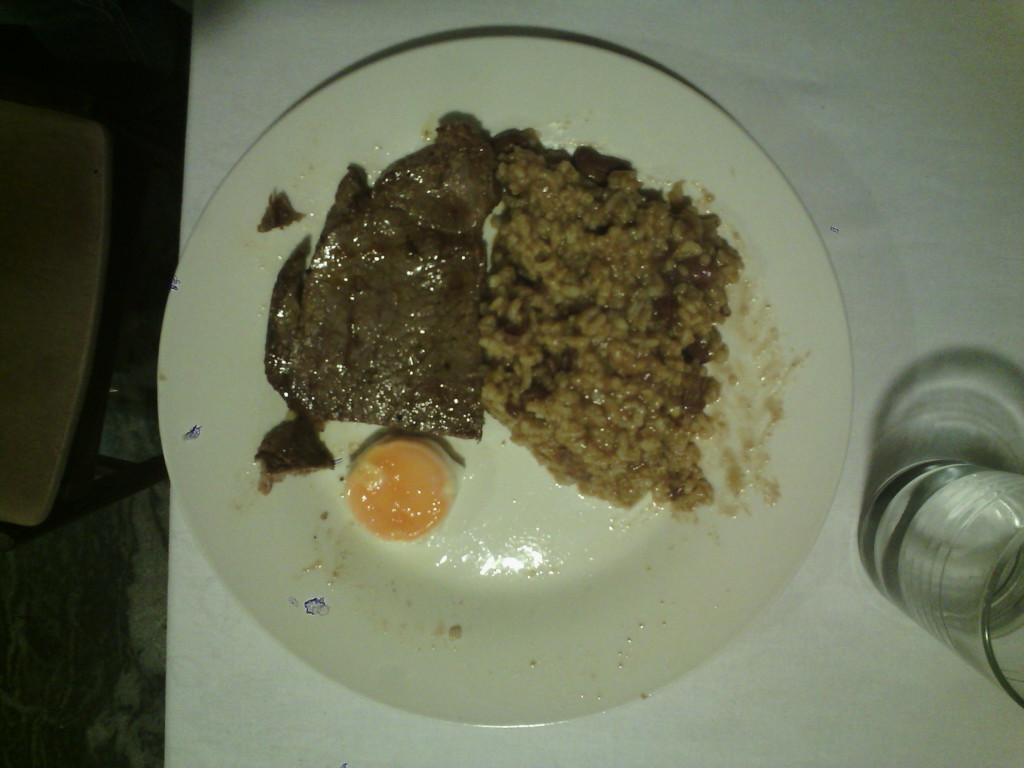61-80: (152, 37, 855, 733)
